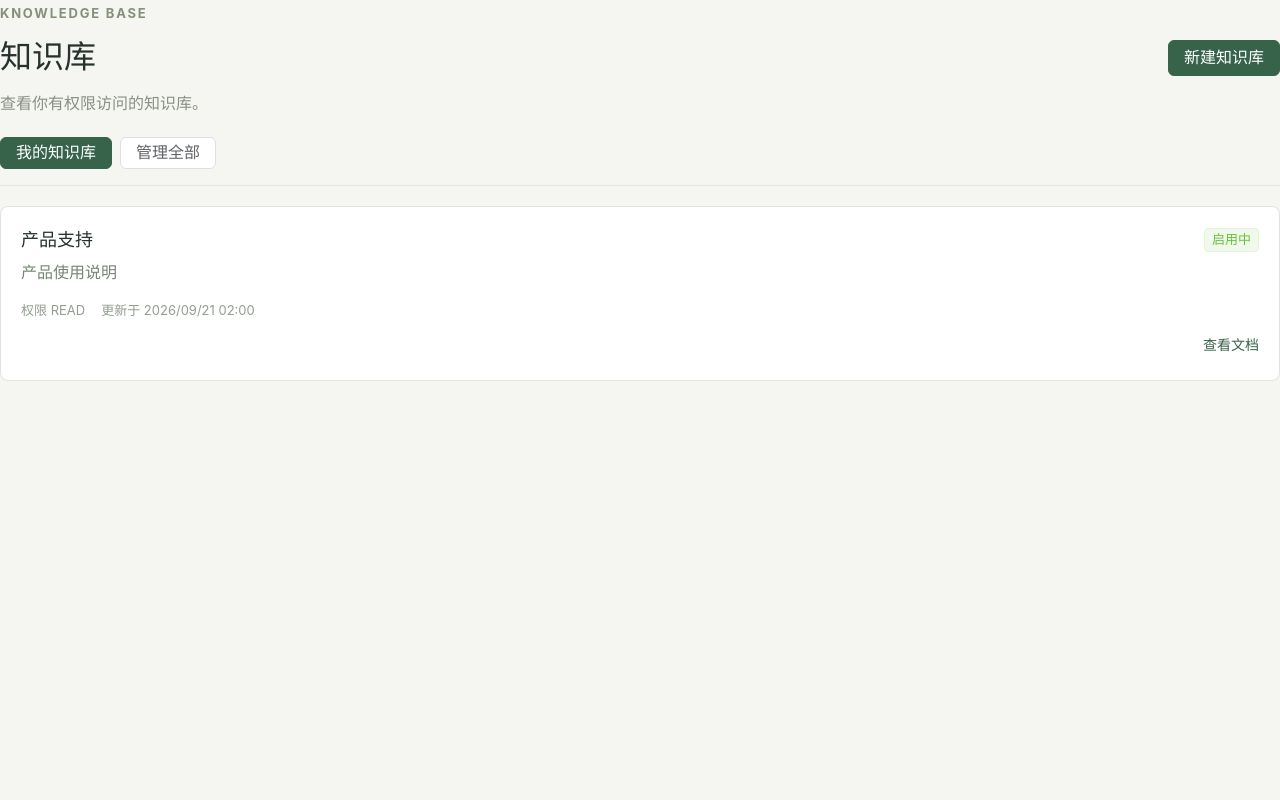
Test case: 知识库视图 › 管理员编辑知识库时提交版本，并在 409 时保留表单内容
The width and height of the screenshot is (1280, 800).
Step 1. Click the button "管理全部" → x=168, y=153, box [120,137,216,169]
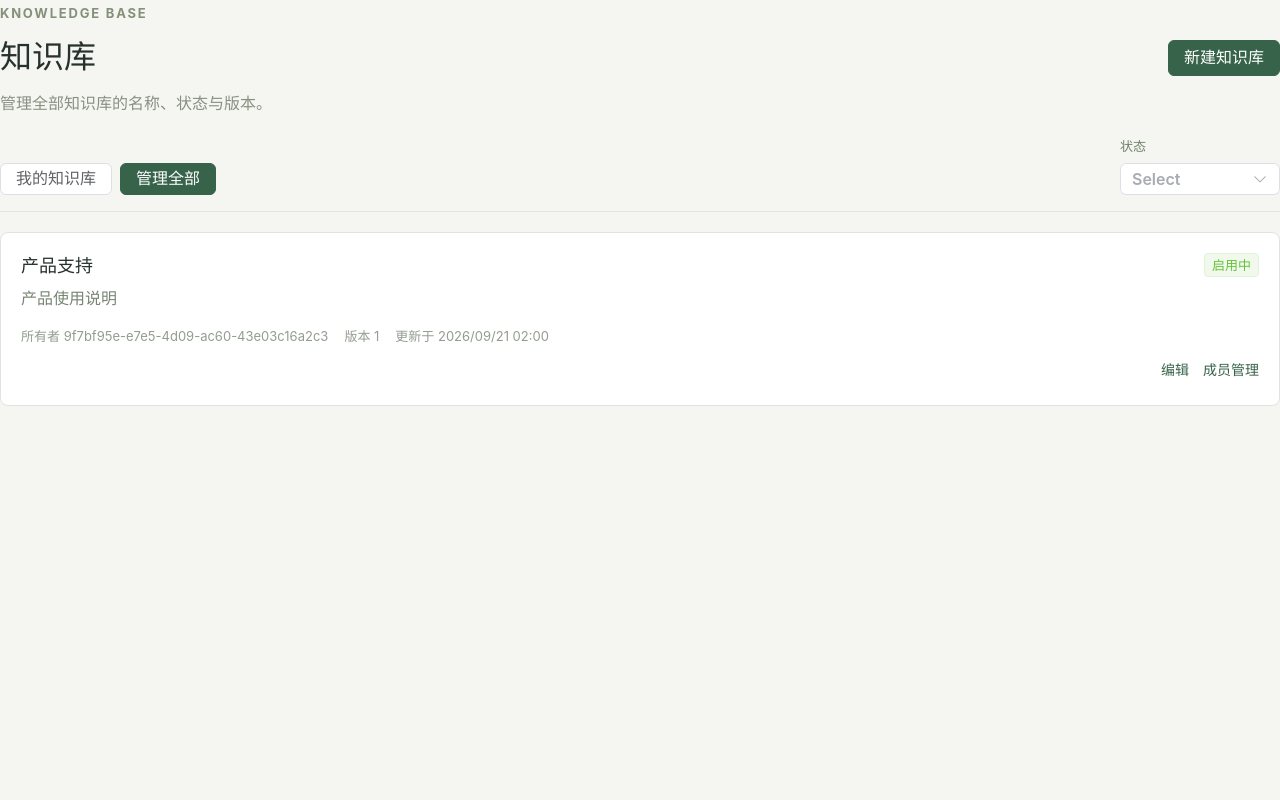
Step 2. Click the button "编辑" → x=1175, y=370, box [1161,354,1189,386]
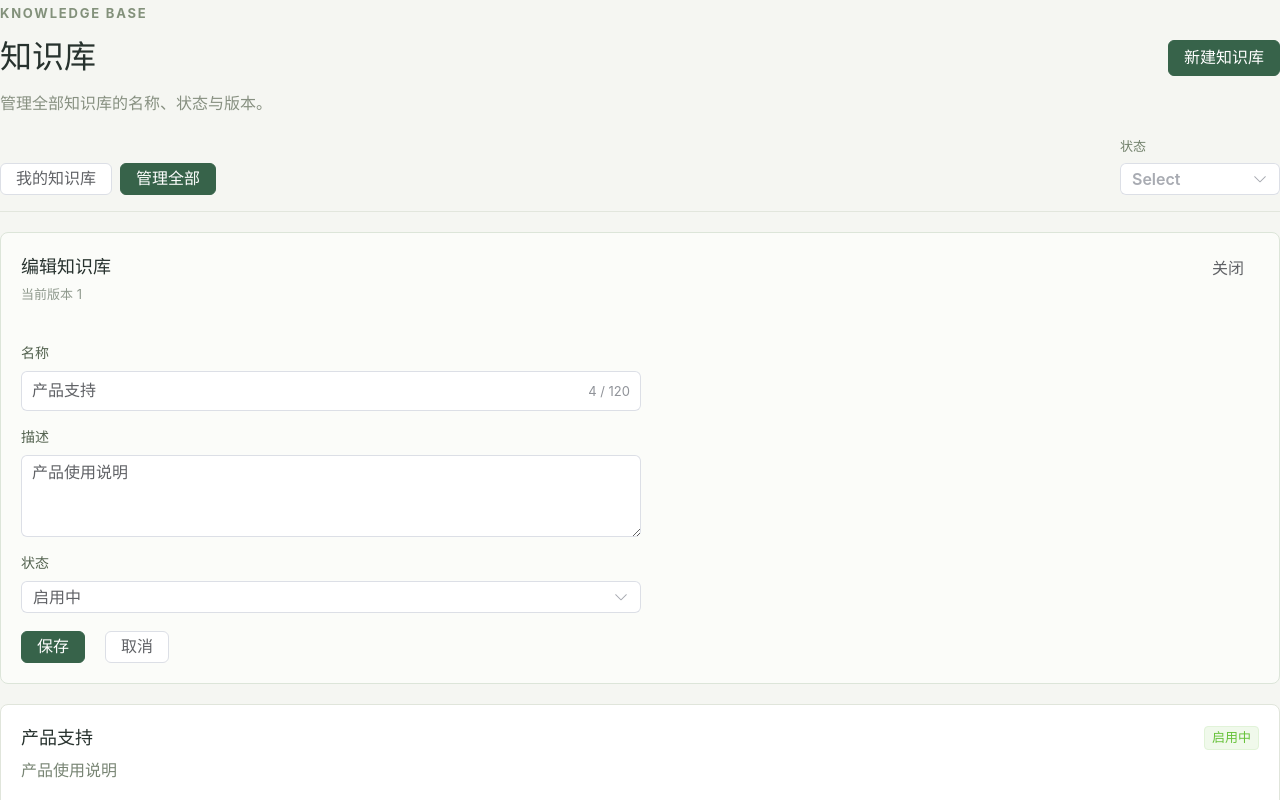
Step 3. Replace the text in the field with id "knowledge-name" with "产品支持新版" → x=302, y=391, box [32,372,572,410]
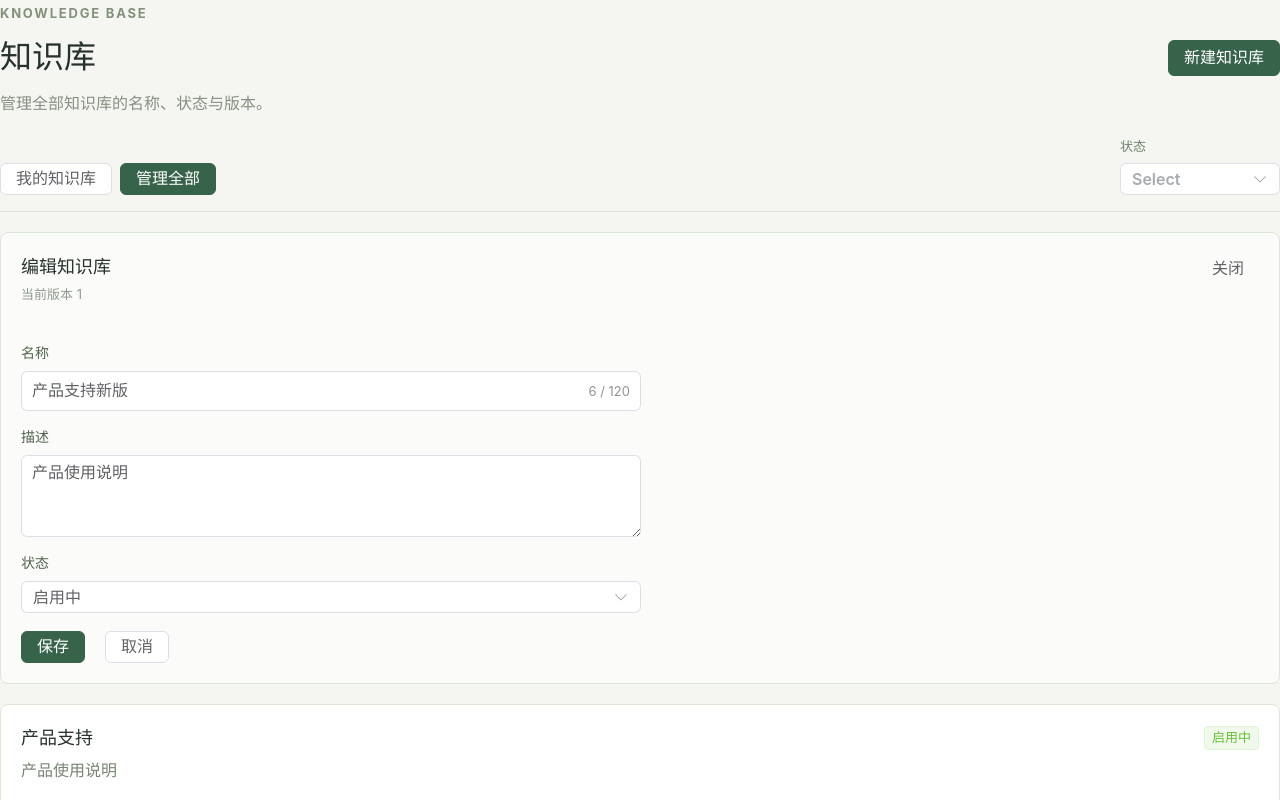
Step 4. Submit the form with class "knowledge-form", box [21,335,641,663]
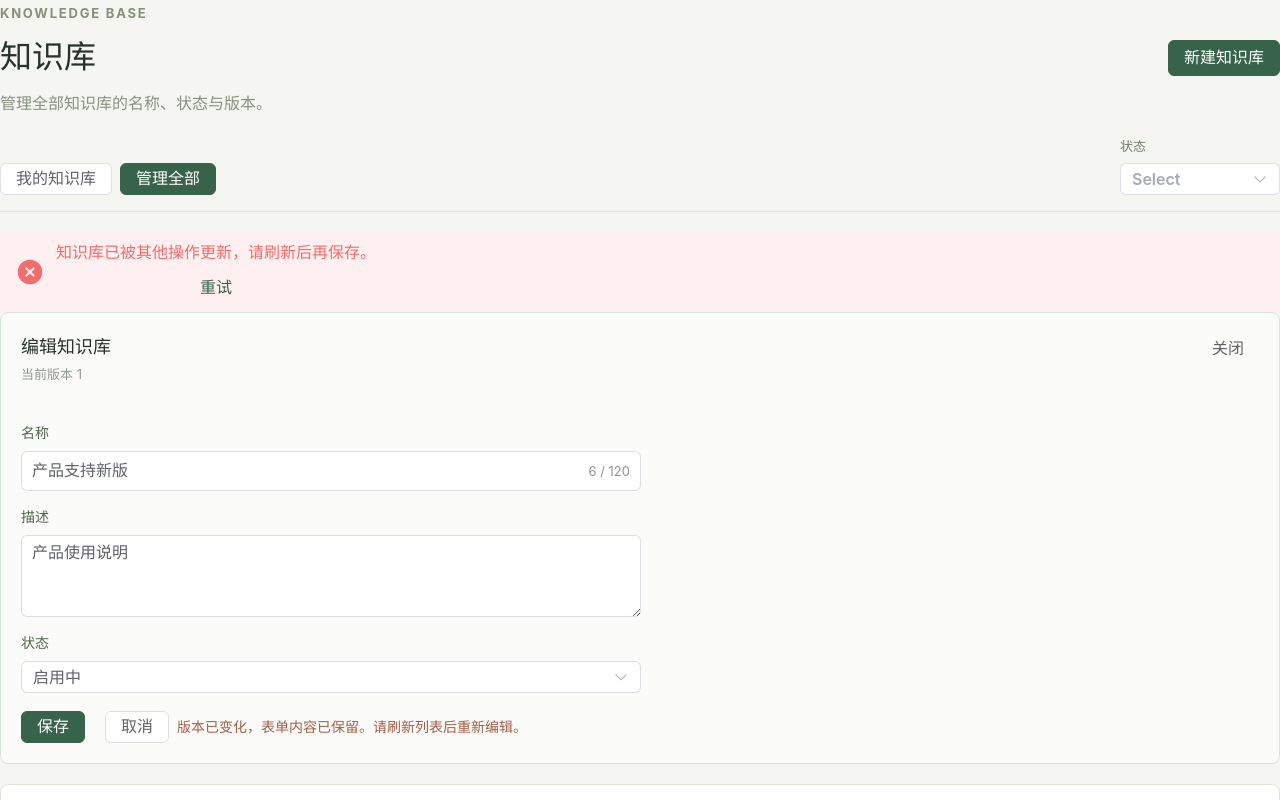
Now the text "版本已变化，表单内容已保留" is shown, box [177,718,527,735]
